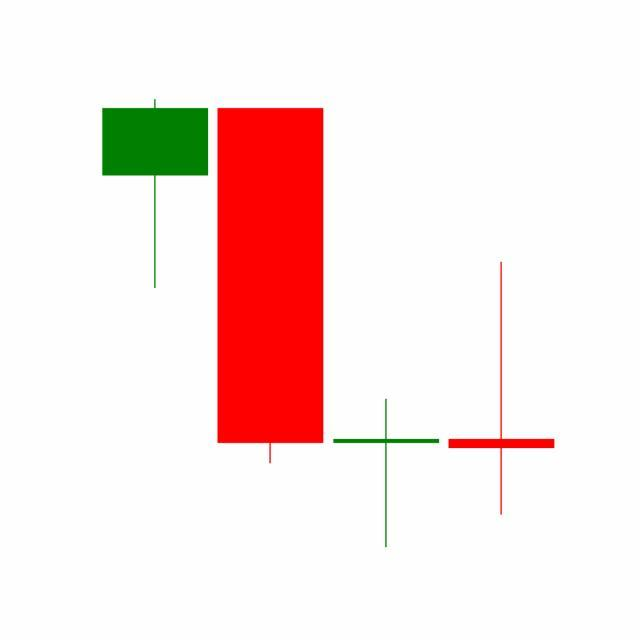Spinning Top: (444, 260, 560, 519)
